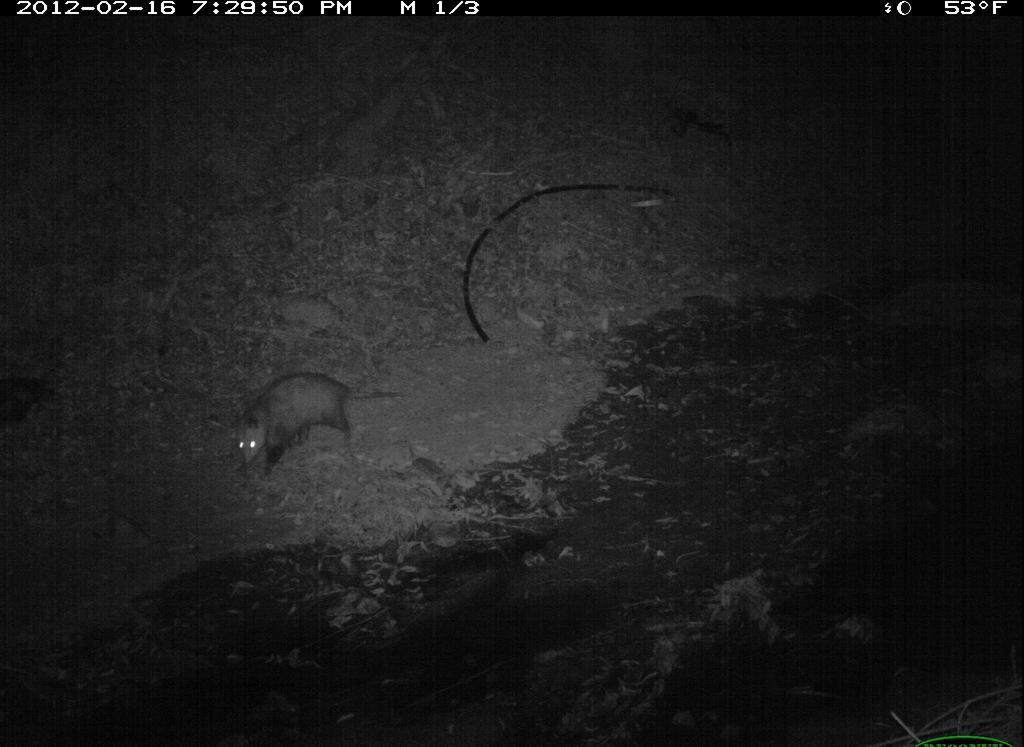opossum: (236, 368, 405, 479)
